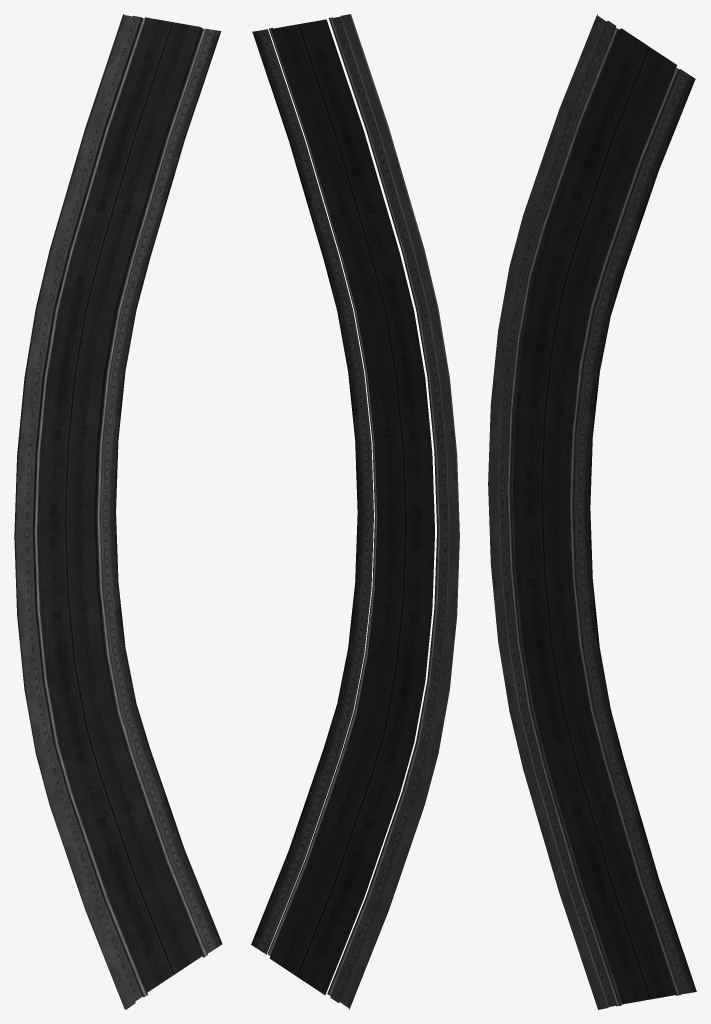
Rendered from p6_express_train_track_a03_LOD1.obj.
3 renders of one model, left to right at view 1: azimuth 30°, elevation 25°; view 2: azimuth 150°, elevation 25°; view 3: azimuth 330°, elevation 25°, orthographic.
Visible parts, largest first — view 1: metal_aircraft_catapult_strip, dub_concrete_wall_01_trim_clean, railroadtrack_top, railroadtrack_side; view 2: metal_aircraft_catapult_strip, dub_concrete_wall_01_trim_clean, railroadtrack_top; view 3: metal_aircraft_catapult_strip, dub_concrete_wall_01_trim_clean, railroadtrack_top, railroadtrack_side.
Boxes of the visible parts, x1,y1,x2,y2 form: metal_aircraft_catapult_strip: (26,16,222,1001); dub_concrete_wall_01_trim_clean: (14,14,135,1009); railroadtrack_top: (34,18,207,996); railroadtrack_side: (32,17,203,996); metal_aircraft_catapult_strip: (251,17,448,1002); dub_concrete_wall_01_trim_clean: (338,14,459,1009); railroadtrack_top: (267,17,439,995); metal_aircraft_catapult_strip: (499,20,696,1006); dub_concrete_wall_01_trim_clean: (488,14,609,1009); railroadtrack_top: (506,27,680,1006); railroadtrack_side: (511,26,681,1005).
Size of the model in its own units: 866 by 3964 by 15.4.
